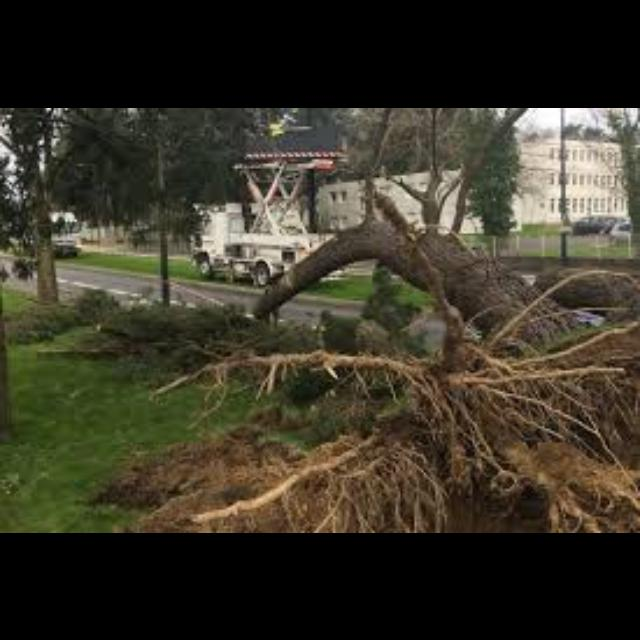Fallen Tree: (242, 213, 640, 439)
